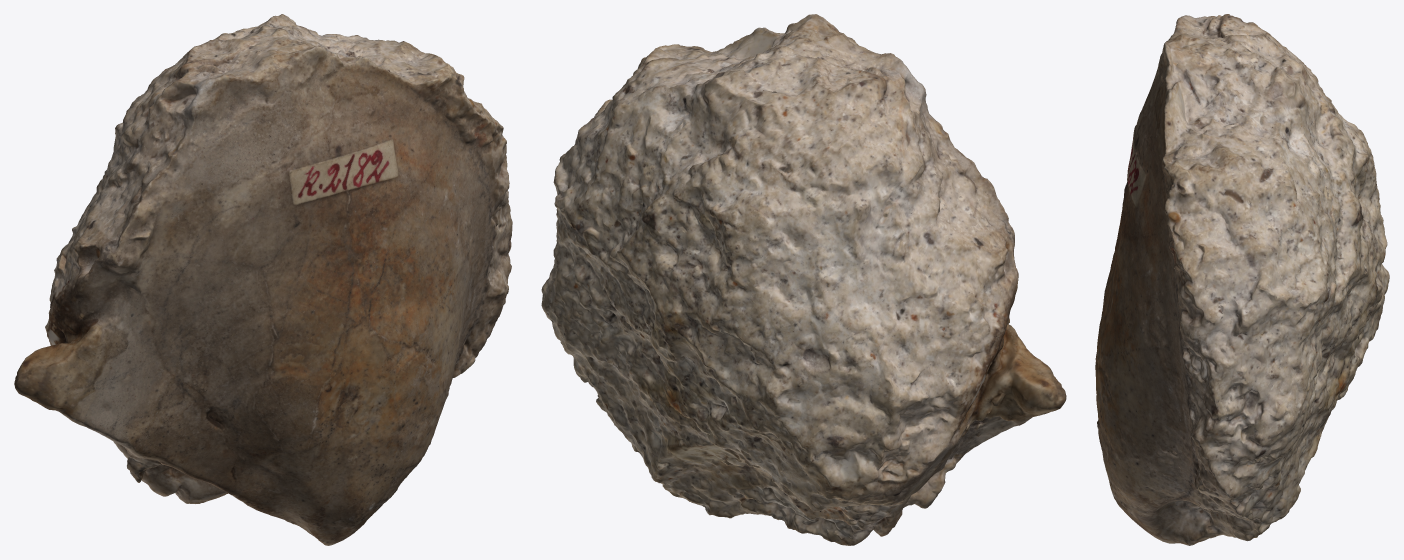
File: EWS0016382.glb
The picture shows the model from 3 angles, left to right: view 1: azimuth 30°, elevation 25°; view 2: azimuth 150°, elevation 25°; view 3: azimuth 270°, elevation 25°; orthographic projection. The views are drawn at different scales.
Visible parts, largest first — view 1: input; view 2: input; view 3: input.
Boxes of the visible parts, x1,y1,x2,y2 form: input: (14, 14, 512, 545); input: (541, 14, 1066, 545); input: (1095, 14, 1389, 545).
Bounding box in the file's own units: 0.7281 × 0.7069 × 0.3848.
1 material, 1 textured.
